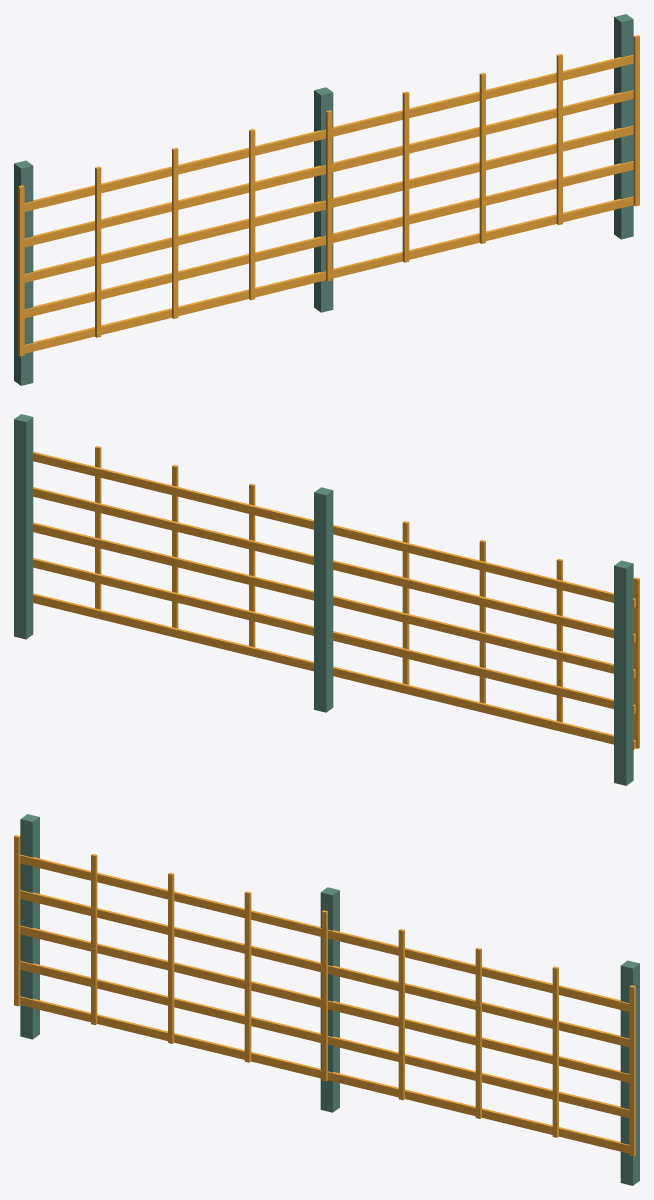
Rendered from ski-resort-and-snow-park-snow-fence-1af16e18__25983.glb.
3 views of the same model, one above another, from view 1: azimuth 30°, elevation 25°; view 2: azimuth 150°, elevation 25°; view 3: azimuth 330°, elevation 25° (orthographic).
Visible parts, largest first — view 1: snow-fence; view 2: snow-fence; view 3: snow-fence.
Part boxes in pixels (x1,y1,x2,y2): snow-fence: [14, 14, 639, 385]; snow-fence: [14, 414, 639, 785]; snow-fence: [14, 814, 639, 1185].
Bounding box in the file's own units: 4.03 × 1.35 × 0.11.
